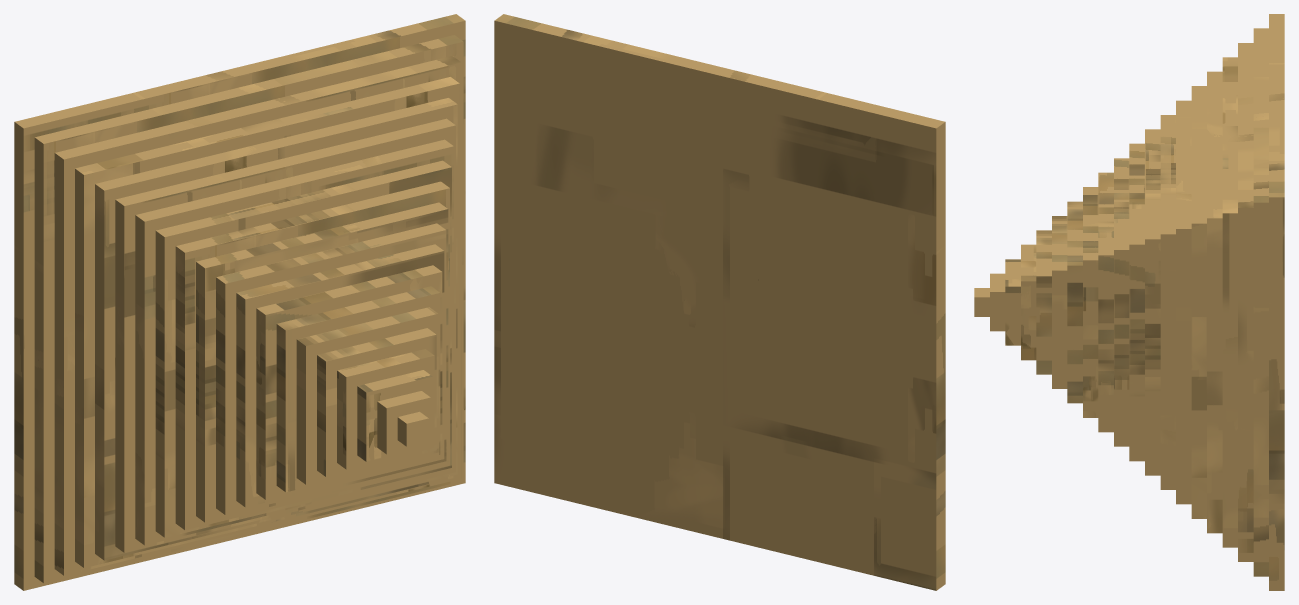
The model's file is kim tu thap.fbx.
The picture shows the model from 3 angles, left to right: view 1: azimuth 30°, elevation 25°; view 2: azimuth 150°, elevation 25°; view 3: azimuth 270°, elevation 25°; orthographic projection. The views are drawn at different scales.
Parts seen in each view (by area): view 1: Pyramid; view 2: Pyramid; view 3: Pyramid.
Boxes of the visible parts, box(x1,y1,x2,y2) form: Pyramid: box(14, 14, 465, 590); Pyramid: box(494, 14, 945, 590); Pyramid: box(974, 14, 1284, 590).
Size of the model in its own units: 990 by 990 by 708.
Materials: 1 (1 with a texture image).
